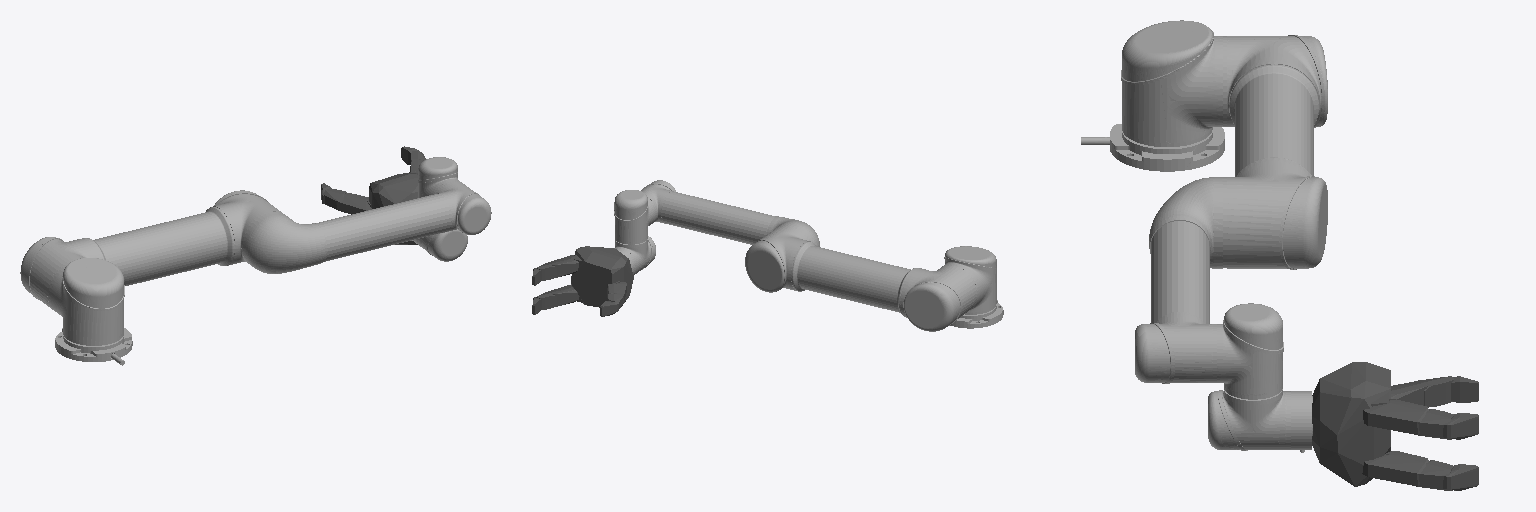
URDF robot description (ur5):
<?xml version="1.0" ?>
<!-- =================================================================================== -->
<!-- |    This document was autogenerated by xacro from universal_robot/ur_description/urdf/ur5_robot_.urdf.xacro | -->
<!-- |    EDITING THIS FILE BY HAND IS NOT RECOMMENDED                                 | -->
<!-- =================================================================================== -->
<robot name="ur5" xmlns:xacro="http://ros.org/wiki/xacro">
  <!-- measured from model -->
  <!--property name="shoulder_height" value="0.089159" /-->
  <!--property name="shoulder_offset" value="0.13585" /-->
  <!-- shoulder_offset - elbow_offset + wrist_1_length = 0.10915 -->
  <!--property name="upper_arm_length" value="0.42500" /-->
  <!--property name="elbow_offset" value="0.1197" /-->
  <!-- CAD measured -->
  <!--property name="forearm_length" value="0.39225" /-->
  <!--property name="wrist_1_length" value="0.093" /-->
  <!-- CAD measured -->
  <!--property name="wrist_2_length" value="0.09465" /-->
  <!-- In CAD this distance is 0.930, but in the spec it is 0.09465 -->
  <!--property name="wrist_3_length" value="0.0823" /-->
  <!-- manually measured -->
  <link name="base_link">
    <visual>
      <geometry>
        <mesh filename="package://ur_description/meshes/ur5/visual/base.dae"/>
      </geometry>
      <material name="LightGrey">
        <color rgba="0.7 0.7 0.7 1.0"/>
      </material>
    </visual>
    <collision>
      <geometry>
        <mesh filename="package://ur_description/meshes/ur5/collision/base.stl"/>
      </geometry>
    </collision>
    <inertial>
      <mass value="4.0"/>
      <origin rpy="0 0 0" xyz="0.0 0.0 0.0"/>
      <inertia ixx="0.00443333156" ixy="0.0" ixz="0.0" iyy="0.00443333156" iyz="0.0" izz="0.0072"/>
    </inertial>
  </link>
  <joint name="shoulder_pan_joint" type="revolute">
    <parent link="base_link"/>
    <child link="shoulder_link"/>
    <origin rpy="0.0 0.0 0.0" xyz="0.0 0.0 0.089159"/>
    <axis xyz="0 0 1"/>
    <limit effort="150.0" lower="-3.14159265359" upper="3.14159265359" velocity="3.15"/>
    <dynamics damping="0.0" friction="0.0"/>
  </joint>
  <link name="shoulder_link">
    <visual>
      <geometry>
        <mesh filename="package://ur_description/meshes/ur5/visual/shoulder.dae"/>
      </geometry>
      <material name="LightGrey">
        <color rgba="0.7 0.7 0.7 1.0"/>
      </material>
    </visual>
    <collision>
      <geometry>
        <mesh filename="package://ur_description/meshes/ur5/collision/shoulder.stl"/>
      </geometry>
    </collision>
    <inertial>
      <mass value="3.7"/>
      <origin rpy="0 0 0" xyz="0.0 0.0 0.0"/>
      <inertia ixx="0.010267495893" ixy="0.0" ixz="0.0" iyy="0.010267495893" iyz="0.0" izz="0.00666"/>
    </inertial>
  </link>
  <joint name="shoulder_lift_joint" type="revolute">
    <parent link="shoulder_link"/>
    <child link="upper_arm_link"/>
    <origin rpy="0.0 1.57079632679 0.0" xyz="0.0 0.13585 0.0"/>
    <axis xyz="0 1 0"/>
    <limit effort="150.0" lower="-3.14159265359" upper="3.14159265359" velocity="3.15"/>
    <dynamics damping="0.0" friction="0.0"/>
  </joint>
  <link name="upper_arm_link">
    <visual>
      <geometry>
        <mesh filename="package://ur_description/meshes/ur5/visual/upperarm.dae"/>
      </geometry>
      <material name="LightGrey">
        <color rgba="0.7 0.7 0.7 1.0"/>
      </material>
    </visual>
    <collision>
      <geometry>
        <mesh filename="package://ur_description/meshes/ur5/collision/upperarm.stl"/>
      </geometry>
    </collision>
    <inertial>
      <mass value="8.393"/>
      <origin rpy="0 0 0" xyz="0.0 0.0 0.28"/>
      <inertia ixx="0.22689067591" ixy="0.0" ixz="0.0" iyy="0.22689067591" iyz="0.0" izz="0.0151074"/>
    </inertial>
  </link>
  <joint name="elbow_joint" type="revolute">
    <parent link="upper_arm_link"/>
    <child link="forearm_link"/>
    <origin rpy="0.0 0.0 0.0" xyz="0.0 -0.1197 0.425"/>
    <axis xyz="0 1 0"/>
    <limit effort="150.0" lower="-3.14159265359" upper="3.14159265359" velocity="3.15"/>
    <dynamics damping="0.0" friction="0.0"/>
  </joint>
  <link name="forearm_link">
    <visual>
      <geometry>
        <mesh filename="package://ur_description/meshes/ur5/visual/forearm.dae"/>
      </geometry>
      <material name="LightGrey">
        <color rgba="0.7 0.7 0.7 1.0"/>
      </material>
    </visual>
    <collision>
      <geometry>
        <mesh filename="package://ur_description/meshes/ur5/collision/forearm.stl"/>
      </geometry>
    </collision>
    <inertial>
      <mass value="2.275"/>
      <origin rpy="0 0 0" xyz="0.0 0.0 0.25"/>
      <inertia ixx="0.049443313556" ixy="0.0" ixz="0.0" iyy="0.049443313556" iyz="0.0" izz="0.004095"/>
    </inertial>
  </link>
  <joint name="wrist_1_joint" type="revolute">
    <parent link="forearm_link"/>
    <child link="wrist_1_link"/>
    <origin rpy="0.0 1.57079632679 0.0" xyz="0.0 0.0 0.39225"/>
    <axis xyz="0 1 0"/>
    <limit effort="28.0" lower="-3.14159265359" upper="3.14159265359" velocity="3.2"/>
    <dynamics damping="0.0" friction="0.0"/>
  </joint>
  <link name="wrist_1_link">
    <visual>
      <geometry>
        <mesh filename="package://ur_description/meshes/ur5/visual/wrist1.dae"/>
      </geometry>
      <material name="LightGrey">
        <color rgba="0.7 0.7 0.7 1.0"/>
      </material>
    </visual>
    <collision>
      <geometry>
        <mesh filename="package://ur_description/meshes/ur5/collision/wrist1.stl"/>
      </geometry>
    </collision>
    <inertial>
      <mass value="1.219"/>
      <origin rpy="0 0 0" xyz="0.0 0.0 0.0"/>
      <inertia ixx="0.111172755531" ixy="0.0" ixz="0.0" iyy="0.111172755531" iyz="0.0" izz="0.21942"/>
    </inertial>
  </link>
  <joint name="wrist_2_joint" type="revolute">
    <parent link="wrist_1_link"/>
    <child link="wrist_2_link"/>
    <origin rpy="0.0 0.0 0.0" xyz="0.0 0.093 0.0"/>
    <axis xyz="0 0 1"/>
    <limit effort="28.0" lower="-3.14159265359" upper="3.14159265359" velocity="3.2"/>
    <dynamics damping="0.0" friction="0.0"/>
  </joint>
  <link name="wrist_2_link">
    <visual>
      <geometry>
        <mesh filename="package://ur_description/meshes/ur5/visual/wrist2.dae"/>
      </geometry>
      <material name="LightGrey">
        <color rgba="0.7 0.7 0.7 1.0"/>
      </material>
    </visual>
    <collision>
      <geometry>
        <mesh filename="package://ur_description/meshes/ur5/collision/wrist2.stl"/>
      </geometry>
    </collision>
    <inertial>
      <mass value="1.219"/>
      <origin rpy="0 0 0" xyz="0.0 0.0 0.0"/>
      <inertia ixx="0.111172755531" ixy="0.0" ixz="0.0" iyy="0.111172755531" iyz="0.0" izz="0.21942"/>
    </inertial>
  </link>
  <joint name="wrist_3_joint" type="revolute">
    <parent link="wrist_2_link"/>
    <child link="wrist_3_link"/>
    <origin rpy="0.0 0.0 0.0" xyz="0.0 0.0 0.09465"/>
    <axis xyz="0 1 0"/>
    <limit effort="28.0" lower="-3.14159265359" upper="3.14159265359" velocity="3.2"/>
    <dynamics damping="0.0" friction="0.0"/>
  </joint>
  <link name="wrist_3_link">
    <visual>
      <geometry>
        <mesh filename="package://ur_description/meshes/ur5/visual/wrist3.dae"/>
      </geometry>
      <material name="LightGrey">
        <color rgba="0.7 0.7 0.7 1.0"/>
      </material>
    </visual>
    <collision>
      <geometry>
        <mesh filename="package://ur_description/meshes/ur5/collision/wrist3.stl"/>
      </geometry>
    </collision>
    <inertial>
      <mass value="0.1879"/>
      <origin rpy="0 0 0" xyz="0.0 0.0 0.0"/>
      <inertia ixx="0.0171364731454" ixy="0.0" ixz="0.0" iyy="0.0171364731454" iyz="0.0" izz="0.033822"/>
    </inertial>
  </link>
  <joint name="ee_fixed_joint" type="fixed">
    <parent link="wrist_3_link"/>
    <child link="ee_link"/>
    <origin rpy="0.0 0.0 1.57079632679" xyz="0.0 0.0823 0.0"/>
  </joint>
  <link name="ee_link">
    <collision>
      <geometry>
        <box size="0.01 0.01 0.01"/>
      </geometry>
      <origin rpy="0 0 0" xyz="-0.01 0 0"/>
    </collision>
    <inertial>
      <mass value="0"/>
      <origin rpy="0 0 0" xyz="0 0 0"/>
      <inertia ixx="0" ixy="0" ixz="0" iyy="0" iyz="0" izz="0"/>
    </inertial>
  </link>
  <!-- nothing to do here at the moment -->
  <!-- ROS base_link to UR 'Base' Coordinates transform -->
  <link name="base">
    <inertial>
      <mass value="0"/>
      <origin rpy="0 0 0" xyz="0 0 0"/>
      <inertia ixx="0" ixy="0" ixz="0" iyy="0" iyz="0" izz="0"/>
    </inertial>
  </link>
  <joint name="base_link-base_fixed_joint" type="fixed">
    <!-- NOTE: this rotation is only needed as long as base_link itself is
                 not corrected wrt the real robot (ie: rotated over 180
                 degrees)
      -->
    <origin rpy="0 0 -3.14159265359" xyz="0 0 0"/>
    <parent link="base_link"/>
    <child link="base"/>
  </joint>
  <!-- Frame coincident with all-zeros TCP on UR controller -->
  <link name="tool0">
    <inertial>
      <mass value="0"/>
      <origin rpy="0 0 0" xyz="0 0 0"/>
      <inertia ixx="0" ixy="0" ixz="0" iyy="0" iyz="0" izz="0"/>
    </inertial>
  </link>
  <joint name="wrist_3_link-tool0_fixed_joint" type="fixed">
    <origin rpy="-1.57079632679 0 0" xyz="0 0.0823 0"/>
    <parent link="wrist_3_link"/>
    <child link="tool0"/>
  </joint>
  <link name="world"/>
  <joint name="world_joint" type="fixed">
    <parent link="world"/>
    <child link="base_link"/>
    <origin rpy="0.0 0.0 0.0" xyz="0.0 0.0 0.0"/>
  </joint>

  <!-- HAND PART -->
  <link name="finger_1_link_0">
    <visual>
      <origin rpy="0 0 0" xyz="0.020 0 0"/>
      <geometry>
        <mesh filename="package://ur_description/meshes/s-model_articulated/visual/link_0.STL"/>
      </geometry>
      <material name="dark_gray">
        <color rgba="0.4 0.4 0.4 1"/>
      </material>
    </visual>
    <collision>
      <origin rpy="0 0 0" xyz="0.020 0 0"/>
      <geometry>
        <mesh filename="package://ur_description/meshes/s-model_articulated/collision/link_0.STL"/>
      </geometry>
      <material name="yellow">
        <color rgba="0 1 1 1"/>
      </material>
    </collision>
    <inertial>
      <origin rpy="0 0 0" xyz="0 0 0"/>
      <mass value="0.05"/>
      <inertia ixx="0.01" ixy="0" ixz="0" iyy="0.01" iyz="0" izz="0.01"/>
    </inertial>
  </link>
  <link name="finger_1_link_1">
    <visual>
      <origin rpy="0 0 -0.52" xyz="0.050 -.028 0"/>
      <geometry>
        <mesh filename="package://ur_description/meshes/s-model_articulated/visual/link_1.STL"/>
      </geometry>
      <material name="dark_gray"/>
    </visual>
    <collision>
      <origin rpy="0 0 -0.52" xyz="0.050 -.028 0"/>
      <geometry>
        <mesh filename="package://ur_description/meshes/s-model_articulated/collision/link_1.STL"/>
      </geometry>
      <material name="yellow"/>
    </collision>
    <inertial>
      <origin rpy="0 0 0" xyz="0 0 0"/>
      <mass value="0.15"/>
      <inertia ixx="0.01" ixy="0" ixz="0" iyy="0.012756" iyz="0" izz="0.01"/>
    </inertial>
  </link>
  <link name="finger_1_link_2">
    <!--
			NOTE: This link has an offset in the z-direction based on the models that were
			used to generate grap-it poses.  With the offset below the model appears visually
			correct, but it is suspect.
			-->
    <visual>
      <origin rpy="0 0 0" xyz="0.039 0 0.0075"/>
      <geometry>
        <mesh filename="package://ur_description/meshes/s-model_articulated/visual/link_2.STL"/>
      </geometry>
      <material name="dark_gray"/>
    </visual>
    <collision>
      <origin rpy="0 0 0" xyz="0.039 0 0.0075"/>
      <geometry>
        <mesh filename="package://ur_description/meshes/s-model_articulated/collision/link_2.STL"/>
      </geometry>
      <material name="yellow"/>
    </collision>
    <inertial>
      <origin rpy="0 0 0" xyz="0 0 0"/>
      <mass value="0.15"/>
      <inertia ixx="0.01" ixy="0" ixz="0" iyy="0.012756" iyz="0" izz="0.01"/>
    </inertial>
  </link>
  <link name="finger_1_link_3">
    <visual>
      <origin rpy="0 0 0.52" xyz="0 0 0"/>
      <geometry>
        <mesh filename="package://ur_description/meshes/s-model_articulated/visual/link_3.STL"/>
      </geometry>
      <material name="dark_gray"/>
    </visual>
    <collision>
      <origin rpy="0 0 0.52" xyz="0 0 0"/>
      <geometry>
        <mesh filename="package://ur_description/meshes/s-model_articulated/collision/link_3.STL"/>
      </geometry>
      <material name="yellow"/>
    </collision>
    <inertial>
      <origin rpy="0 0 0" xyz="0 0 0"/>
      <mass value="0.05"/>
      <inertia ixx="0.01" ixy="0" ixz="0" iyy="0.01" iyz="0" izz="0.01"/>
    </inertial>
    <contact>
        <lateral_friction value="1.0"/>
        <spinning_friction value="1.5"/>
        <!--inertia_scaling value="3.0"/-->
    </contact>
  </link>
  <joint name="finger_1_joint_1" type="revolute">
    <parent link="finger_1_link_0"/>
    <child link="finger_1_link_1"/>
    <axis xyz="0 0 1"/>
    <origin rpy="0 0 0" xyz="0.020 0 0"/>
    <limit effort="100" lower="0" upper="1.22173" velocity="100"/>
  </joint>
  <joint name="finger_1_joint_2" type="revolute">
    <parent link="finger_1_link_1"/>
    <child link="finger_1_link_2"/>
    <axis xyz="0 0 1"/>
    <origin rpy="0 0 -0.52" xyz="0.050 -.028 0"/>
    <limit effort="100" lower="0" upper="1.5708" velocity="100"/>
  </joint>
  <joint name="finger_1_joint_3" type="revolute">
    <parent link="finger_1_link_2"/>
    <child link="finger_1_link_3"/>
    <axis xyz="0 0 1"/>
    <origin rpy="0 0 0" xyz="0.039 0 0"/>
    <limit effort="100" lower="-0.9599" upper="0.7505" velocity="100"/>
  </joint>
  <link name="finger_2_link_0">
    <visual>
      <origin rpy="0 0 0" xyz="0.020 0 0"/>
      <geometry>
        <mesh filename="package://ur_description/meshes/s-model_articulated/visual/link_0.STL"/>
      </geometry>
      <material name="dark_gray"/>
    </visual>
    <collision>
      <origin rpy="0 3.1416 -1.57" xyz="-0.0455 0.0414 0.036"/>
      <geometry>
        <mesh filename="package://ur_description/meshes/s-model_articulated/collision/link_0.STL"/>
      </geometry>
      <material name="yellow"/>
    </collision>
    <inertial>
      <origin rpy="0 0 0" xyz="0 0 0"/>
      <mass value="0.05"/>
      <inertia ixx="0.01" ixy="0" ixz="0" iyy="0.01" iyz="0" izz="0.01"/>
    </inertial>
  </link>
  <link name="finger_2_link_1">
    <visual>
      <origin rpy="0 0 -0.52" xyz="0.050 -.028 0"/>
      <geometry>
        <mesh filename="package://ur_description/meshes/s-model_articulated/visual/link_1.STL"/>
      </geometry>
      <material name="dark_gray"/>
    </visual>
    <collision>
      <origin rpy="0 0 -0.52" xyz="0.050 -.028 0"/>
      <geometry>
        <mesh filename="package://ur_description/meshes/s-model_articulated/collision/link_1.STL"/>
      </geometry>
      <material name="yellow"/>
    </collision>
    <inertial>
      <origin rpy="0 0 0" xyz="0 0 0"/>
      <mass value="0.15"/>
      <inertia ixx="0.01" ixy="0" ixz="0" iyy="0.012756" iyz="0" izz="0.01"/>
    </inertial>
  </link>
  <link name="finger_2_link_2">
    <!--
			NOTE: This link has an offset in the z-direction based on the models that were
			used to generate grap-it poses.  With the offset below the model appears visually
			correct, but it is suspect.
			-->
    <visual>
      <origin rpy="0 0 0" xyz="0.039 0 0.0075"/>
      <geometry>
        <mesh filename="package://ur_description/meshes/s-model_articulated/visual/link_2.STL"/>
      </geometry>
      <material name="dark_gray"/>
    </visual>
    <collision>
      <origin rpy="0 0 0" xyz="0.039 0 0.0075"/>
      <geometry>
        <mesh filename="package://ur_description/meshes/s-model_articulated/collision/link_2.STL"/>
      </geometry>
      <material name="yellow"/>
    </collision>
    <inertial>
      <origin rpy="0 0 0" xyz="0 0 0"/>
      <mass value="0.15"/>
     <inertia ixx="0.01" ixy="0" ixz="0" iyy="0.012756" iyz="0" izz="0.01"/>
    </inertial>
  </link>
  <link name="finger_2_link_3">
    <visual>
      <origin rpy="0 0 0.52" xyz="0 0 0"/>
      <geometry>
        <mesh filename="package://ur_description/meshes/s-model_articulated/visual/link_3.STL"/>
      </geometry>
      <material name="dark_gray"/>
    </visual>
    <collision>
      <origin rpy="0 0 0.52" xyz="0 0 0"/>
      <geometry>
        <mesh filename="package://ur_description/meshes/s-model_articulated/collision/link_3.STL"/>
      </geometry>
      <material name="yellow"/>
    </collision>
    <inertial>
      <origin rpy="0 0 0" xyz="0 0 0"/>
      <mass value="0.05"/>
      <inertia ixx="0.01" ixy="0" ixz="0" iyy="0.01" iyz="0" izz="0.01"/>
    </inertial>
    <contact>
        <lateral_friction value="1.0"/>
        <spinning_friction value="1.5"/>
        <!--inertia_scaling value="3.0"/-->
    </contact>
  </link>
  <joint name="finger_2_joint_1" type="revolute">
    <parent link="finger_2_link_0"/>
    <child link="finger_2_link_1"/>
    <axis xyz="0 0 1"/>
    <origin rpy="0 0 0" xyz="0.020 0 0"/>
    <limit effort="100" lower="0" upper="1.22173" velocity="100"/>
  </joint>
  <joint name="finger_2_joint_2" type="revolute">
    <parent link="finger_2_link_1"/>
    <child link="finger_2_link_2"/>
    <axis xyz="0 0 1"/>
    <origin rpy="0 0 -0.52" xyz="0.050 -.028 0"/>
    <limit effort="100" lower="0" upper="1.5708" velocity="100"/>
  </joint>
  <joint name="finger_2_joint_3" type="revolute">
    <parent link="finger_2_link_2"/>
    <child link="finger_2_link_3"/>
    <axis xyz="0 0 1"/>
    <origin rpy="0 0 0" xyz="0.039 0 0"/>
    <limit effort="100" lower="-0.9599" upper="0.7505" velocity="100"/>
  </joint>
  <link name="finger_middle_link_0">
    <visual>
      <origin rpy="0 0 0" xyz="0.020 0 0"/>
      <geometry>
        <mesh filename="package://ur_description/meshes/s-model_articulated/visual/link_0.STL"/>
      </geometry>
      <material name="dark_gray"/>
    </visual>
    <collision>
      <origin rpy="0 0 0" xyz="0.020 0 0"/>
      <geometry>
        <mesh filename="package://ur_description/meshes/s-model_articulated/collision/link_0.STL"/>
      </geometry>
      <material name="yellow"/>
    </collision>
    <inertial>
      <origin rpy="0 0 0" xyz="0 0 0"/>
      <mass value="0.05"/>
      <inertia ixx="0.01" ixy="0" ixz="0" iyy="0.01" iyz="0" izz="0.01"/>
    </inertial>
  </link>
  <link name="finger_middle_link_1">
    <visual>
      <origin rpy="0 0 -0.52" xyz="0.050 -.028 0"/>
      <geometry>
        <mesh filename="package://ur_description/meshes/s-model_articulated/visual/link_1.STL"/>
      </geometry>
      <material name="dark_gray"/>
    </visual>
    <collision>
      <origin rpy="0 0 -0.52" xyz="0.050 -.028 0"/>
      <geometry>
        <mesh filename="package://ur_description/meshes/s-model_articulated/collision/link_1.STL"/>
      </geometry>
      <material name="yellow"/>
    </collision>
    <inertial>
      <origin rpy="0 0 0" xyz="0 0 0"/>
      <mass value="0.15"/>
      <inertia ixx="0.01" ixy="0" ixz="0" iyy="0.012756" iyz="0" izz="0.01"/>
    </inertial>
  </link>
  <link name="finger_middle_link_2">
    <!--
			NOTE: This link has an offset in the z-direction based on the models that were
			used to generate grap-it poses.  With the offset below the model appears visually
			correct, but it is suspect.
			-->
    <visual>
      <origin rpy="0 0 0" xyz="0.039 0 0.0075"/>
      <geometry>
        <mesh filename="package://ur_description/meshes/s-model_articulated/visual/link_2.STL"/>
      </geometry>
      <material name="dark_gray"/>
    </visual>
    <collision>
      <origin rpy="0 0 0" xyz="0.039 0 0.0075"/>
      <geometry>
        <mesh filename="package://ur_description/meshes/s-model_articulated/collision/link_2.STL"/>
      </geometry>
      <material name="yellow"/>
    </collision>
    <inertial>
      <origin rpy="0 0 0" xyz="0 0 0"/>
      <mass value="0.15"/>
      <inertia ixx="0.01" ixy="0" ixz="0" iyy="0.012756" iyz="0" izz="0.01"/>
    </inertial>
  </link>
  <link name="finger_middle_link_3">
    <visual>
      <origin rpy="0 0 0.52" xyz="0 0 0"/>
      <geometry>
        <mesh filename="package://ur_description/meshes/s-model_articulated/visual/link_3.STL"/>
      </geometry>
      <material name="dark_gray"/>
    </visual>
    <collision>
      <origin rpy="0 0 0.52" xyz="0 0 0"/>
      <geometry>
        <mesh filename="package://ur_description/meshes/s-model_articulated/collision/link_3.STL"/>
      </geometry>
      <material name="yellow"/>
    </collision>
    <inertial>
      <origin rpy="0 0 0" xyz="0 0 0"/>
      <mass value="0.05"/>
      <inertia ixx="0.01" ixy="0" ixz="0" iyy="0.01" iyz="0" izz="0.01"/>
    </inertial>
    <contact>
        <lateral_friction value="1.0"/>
        <spinning_friction value="1.5"/>
        <!-- inertia_scaling value="3.0"/-->
    </contact>
  </link>
  <joint name="finger_middle_joint_1" type="revolute">
    <parent link="finger_middle_link_0"/>
    <child link="finger_middle_link_1"/>
    <axis xyz="0 0 1"/>
    <origin rpy="0 0 0" xyz="0.020 0 0"/>
    <limit effort="100" lower="0" upper="1.22173" velocity="100"/>
    <!--dynamics damping="1" friction="0" /-->
  </joint>
  <joint name="finger_middle_joint_2" type="revolute">
    <parent link="finger_middle_link_1"/>
    <child link="finger_middle_link_2"/>
    <axis xyz="0 0 1"/>
    <origin rpy="0 0 -0.52" xyz="0.050 -.028 0"/>
    <limit effort="100" lower="0" upper="1.5708" velocity="100"/>
    <!--dynamics damping="1" friction="0" /-->
  </joint>
  <joint name="finger_middle_joint_3" type="revolute">
    <parent link="finger_middle_link_2"/>
    <child link="finger_middle_link_3"/>
    <axis xyz="0 0 1"/>
    <origin rpy="0 0 0" xyz="0.039 0 0"/>
    <limit effort="100" lower="-0.9599" upper="0.7505" velocity="100"/>
    <!--dynamics damping="1" friction="0" /-->
  </joint>
  <link name="palm">
    <visual>
      <geometry>
        <mesh filename="package://ur_description/meshes/s-model_articulated/visual/palm.STL"/>
      </geometry>
      <material name="dark_gray"/>
    </visual>
    <collision>
      <geometry>
        <mesh filename="package://ur_description/meshes/s-model_articulated/collision/palm.STL"/>
      </geometry>
      <material name="yellow"/>
    </collision>
    <inertial>
      <origin rpy="0 0 0" xyz="0 0 0"/>
      <mass value="1.3"/>
      <inertia ixx="0.0035" ixy="0" ixz="0" iyy="0.0035" iyz="0" izz="0.0035"/>
    </inertial>
  </link>
  <inertial>
    <origin rpy="0 0 0" xyz="0 0 0"/>
    <mass value="1.3"/>
    <inertia ixx="0.006012" ixy="0.000079" ixz="-0.00024" iyy="0.012892" iyz="0" izz="0.002435"/>
  </inertial>
  <joint name="palm_finger_1_joint" type="revolute">
    <parent link="palm"/>
    <child link="finger_1_link_0"/>
    <axis xyz="0 1 0"/>
    <origin rpy="0 3.1416 -1.57" xyz="-0.0455 0.0214 0.036"/>  0.0455 0.0214 0
    <limit effort="100" lower="-0.16" upper="0.25" velocity="100"/>
  </joint>
  <joint name="palm_finger_2_joint" type="revolute">
    <parent link="palm"/>
    <child link="finger_2_link_0"/>
    <axis xyz="0 1 0"/>
    <origin rpy="0 3.1416 -1.57" xyz="-0.0455 0.0214 -0.036"/>
    <limit effort="100" lower="-0.25" upper="0.16" velocity="100"/>
  </joint>
  <joint name="palm_finger_middle_joint" type="fixed">
    <parent link="palm"/>
    <child link="finger_middle_link_0"/>
    <axis xyz="0 0 1"/>
    <origin rpy="0 0 1.57" xyz="0.0455 0.0214 0"/>
  </joint>

  <!-- joint attaching parent link to robotiq hand -->
  <joint name="robotiq_hand_joint" type="fixed">
    <origin rpy="1.570796325 0 0" xyz="0 0 0.0423"/>
    <parent link="tool0"/>
    <child link="palm"/>
  </joint>


  <!-- tool -->
  <link name="tool">
    <inertial>
      <mass value="0"/>
      <origin rpy="0 0 0" xyz="0 0 0"/>
      <inertia ixx="0" ixy="0" ixz="0" iyy="0" iyz="0" izz="0"/>
    </inertial>
  </link>

  <joint name="tool_joint" type="fixed">
    <origin rpy="0 0 0" xyz="0 0 0.2"/>
    <parent link="tool0"/>
    <child link="tool"/>
  </joint>

</robot>

--- Facts derived from the render (not from the file) ---
Views: 3 orthographic renders of the robot side by side, from view 1: azimuth 30°, elevation 25°; view 2: azimuth 150°, elevation 25°; view 3: azimuth 270°, elevation 25°.
Robot: ur5 — 25 links, 24 joints (17 revolute, 7 fixed); root link world; default pose: all joints at 0.
Visible links, largest first — view 1: upper_arm_link, forearm_link, shoulder_link, base_link, palm, wrist_1_link, wrist_2_link, finger_middle_link_1; view 2: upper_arm_link, forearm_link, palm, shoulder_link, wrist_1_link, wrist_2_link, base_link; view 3: upper_arm_link, forearm_link, shoulder_link, palm, wrist_1_link, wrist_2_link, base_link, finger_2_link_1, finger_1_link_1, wrist_3_link, finger_1_link_3, finger_2_link_3 (+5 smaller).
Link boxes in pixels (x1,y1,x2,y2): upper_arm_link: (20, 190, 284, 309); forearm_link: (243, 180, 491, 273); shoulder_link: (49, 258, 124, 345); base_link: (55, 328, 132, 365); palm: (369, 173, 417, 244); wrist_1_link: (418, 157, 458, 197); wrist_2_link: (413, 229, 467, 261); finger_middle_link_1: (336, 193, 371, 214); upper_arm_link: (745, 225, 976, 331); forearm_link: (641, 180, 819, 246); palm: (571, 246, 633, 307); shoulder_link: (942, 246, 996, 314); wrist_1_link: (614, 190, 655, 244); wrist_2_link: (614, 236, 655, 275); base_link: (950, 300, 1003, 328); upper_arm_link: (1223, 35, 1327, 269); forearm_link: (1135, 177, 1222, 383); shoulder_link: (1121, 20, 1222, 146); palm: (1312, 362, 1390, 486); wrist_1_link: (1217, 303, 1283, 399); wrist_2_link: (1208, 389, 1290, 450); base_link: (1081, 124, 1224, 171); finger_2_link_1: (1363, 399, 1428, 434); finger_1_link_1: (1362, 451, 1428, 486); wrist_3_link: (1291, 391, 1312, 452); finger_1_link_3: (1442, 464, 1478, 490); finger_2_link_3: (1443, 413, 1478, 439).
Size in the robot's own frame: 1 by 0.5062 by 0.2283 metres.
20 mesh visuals loaded from 12 distinct referenced files (5 binary STL, 7 Collada DAE).